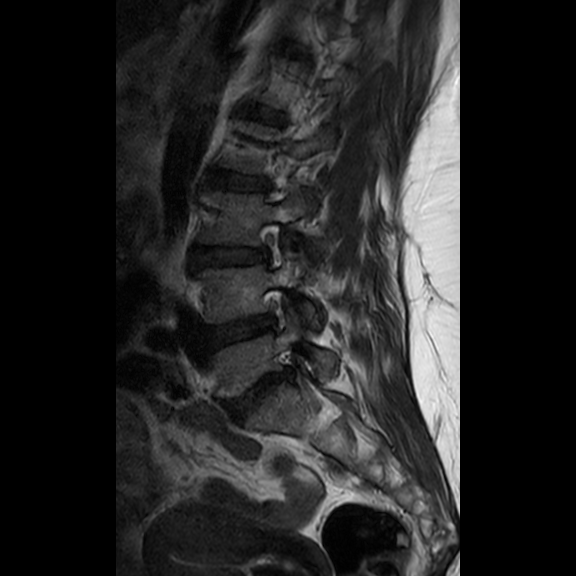RFS0: (247, 213, 290, 275)
RFS1: (251, 279, 296, 339)
